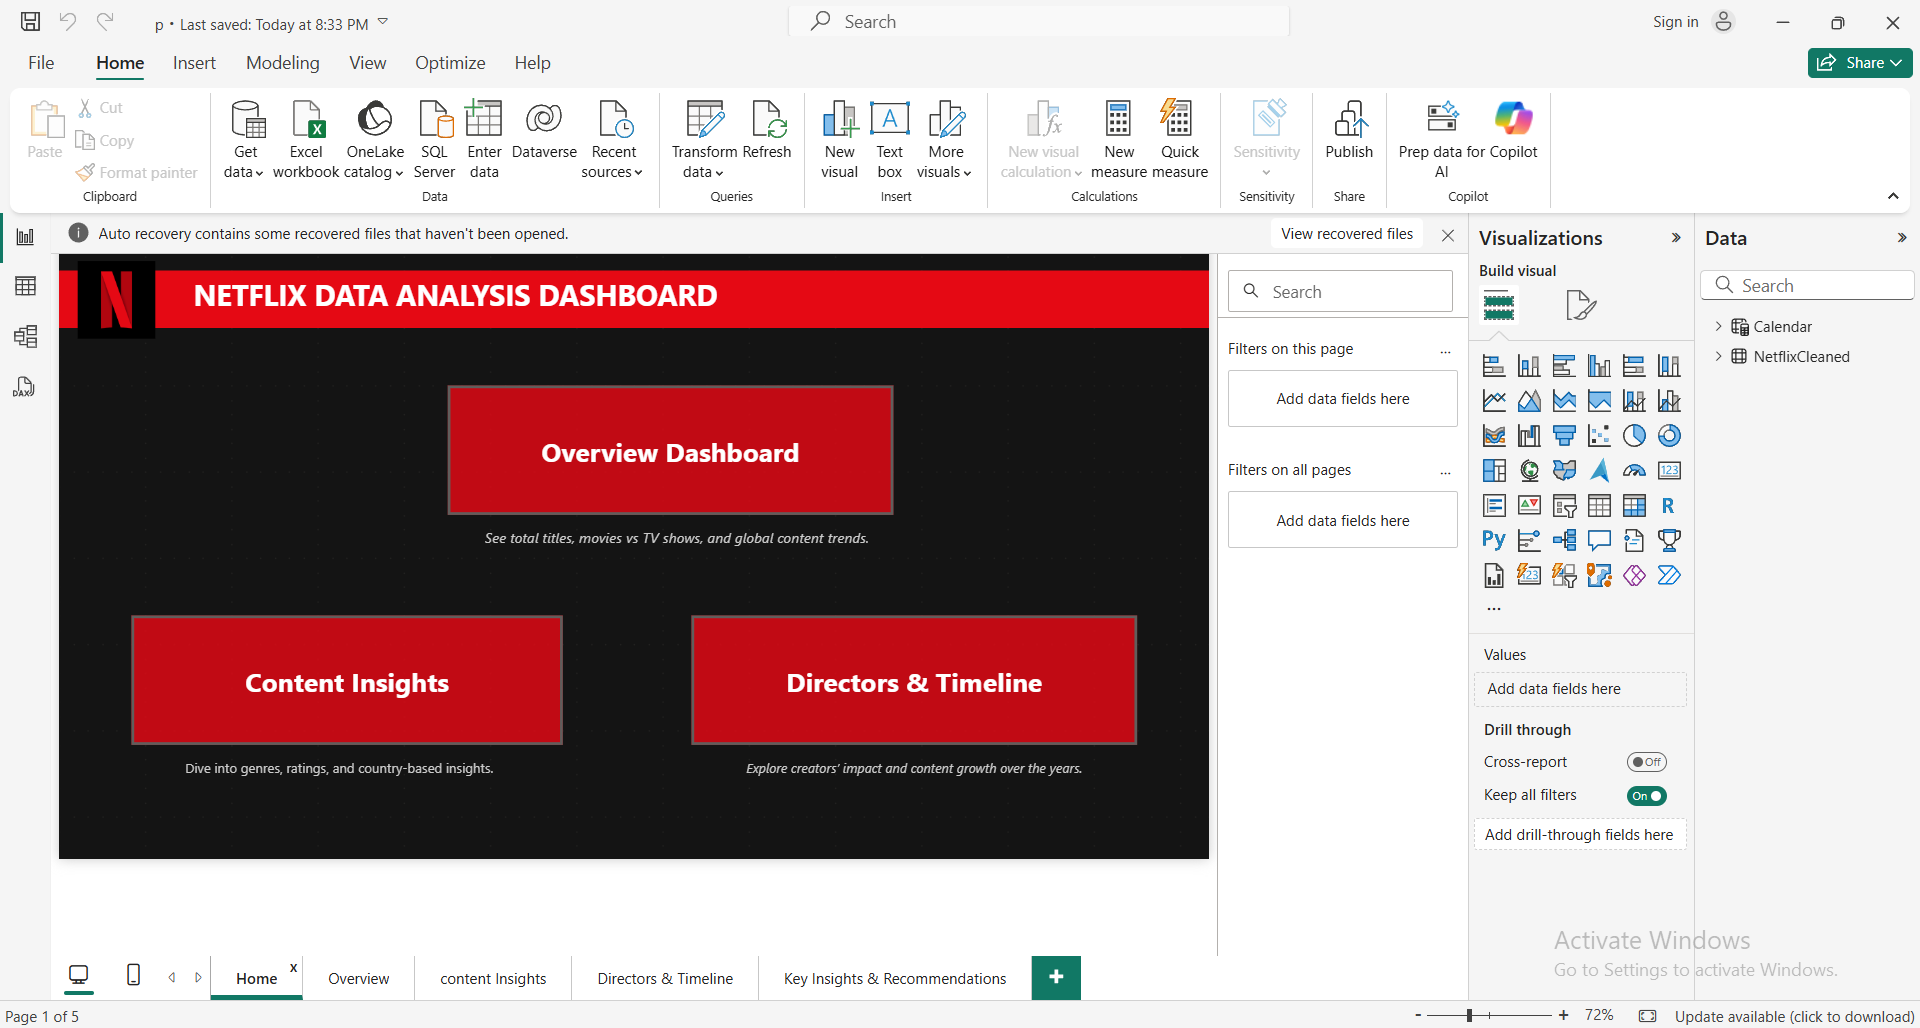

This screenshot's page, from the dashboard's own definition file:
{"tool":"powerbi","page":{"name":"Home ","canvas":[1280,720],"ordinal":0},"visuals":[{"type":"shape","box":[0,64,1280,64],"z":0},{"type":"image","box":[0,48,128,96],"z":1000},{"type":"textbox","box":[144,64,736,64],"z":2000},{"type":"actionButton","box":[0,0,100,40],"z":3000},{"type":"actionButton","box":[704,448,496,144],"z":4000},{"type":"actionButton","box":[432,192,496,144],"z":5000},{"type":"actionButton","box":[80,448,480,144],"z":6000},{"type":"textbox","box":[448,336,480,48],"z":7000},{"type":"textbox","box":[96,592,432,48],"z":8000},{"type":"textbox","box":[736,592,432,48],"z":9000}]}

Visuals, with their boxes on the page's 1280x720 design canvas (x1, y1, x2, y2). These are canvas units, not pixel positions in the 1920x1028 screenshot, which may show the page scaled, cropped or inside an application window:
shape: [0,64,1280,128]
image: [0,48,128,144]
textbox: [144,64,880,128]
actionButton: [0,0,100,40]
actionButton: [704,448,1200,592]
actionButton: [432,192,928,336]
actionButton: [80,448,560,592]
textbox: [448,336,928,384]
textbox: [96,592,528,640]
textbox: [736,592,1168,640]
